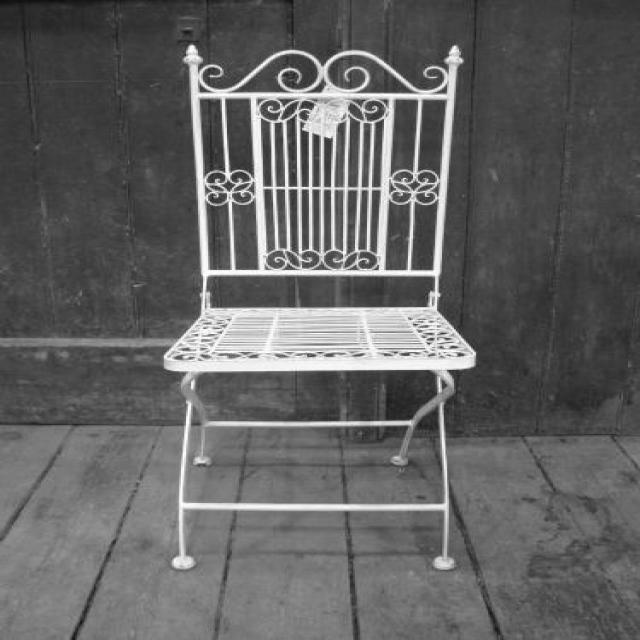chair: (160, 42, 473, 570)
